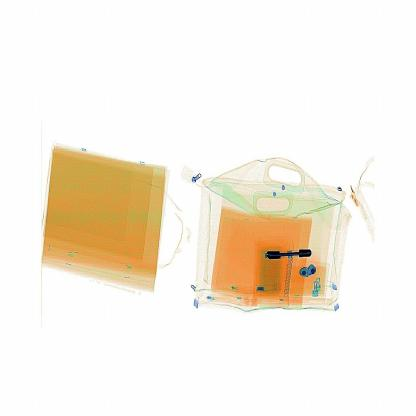knife: (258, 242, 319, 270)
